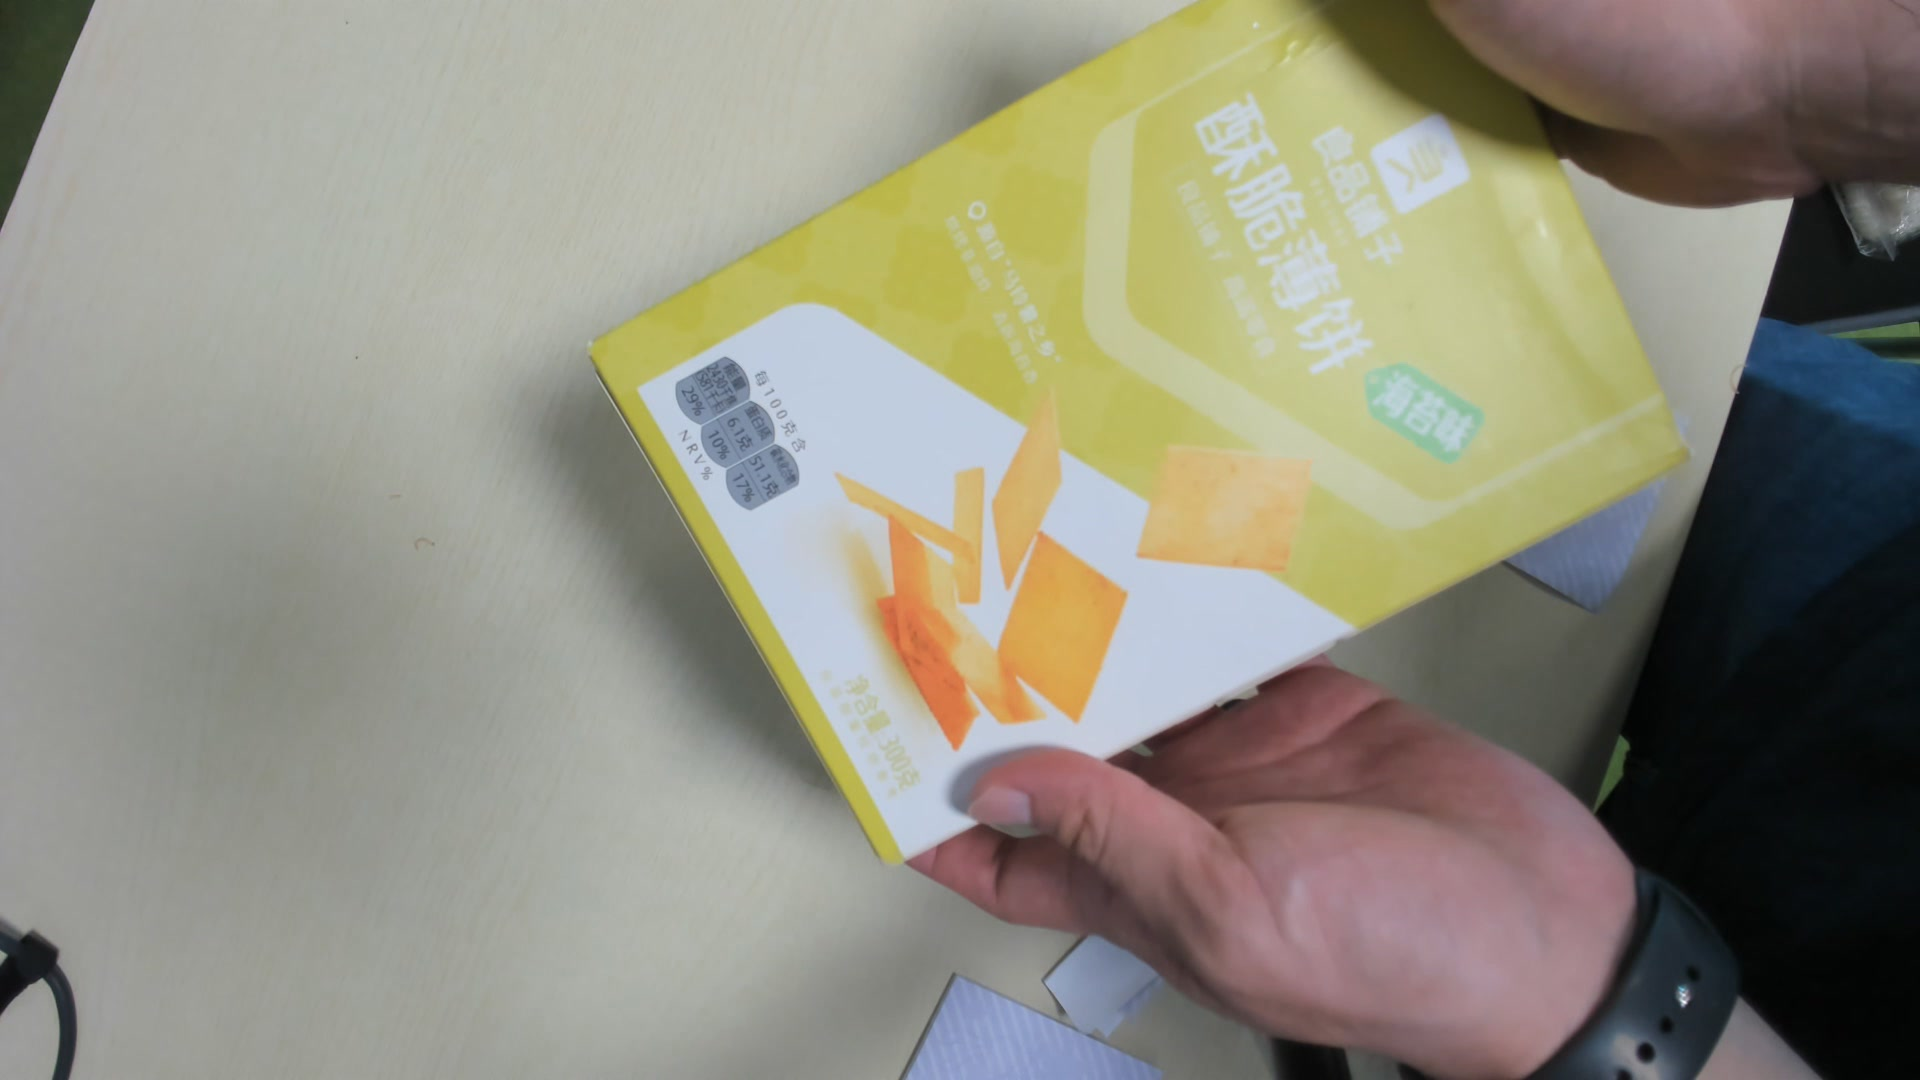BiscuitsCrackersCookies_300-399g_Halal_NonHealthy: (584, 7, 1693, 886)
